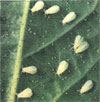whitefly: (78, 78, 93, 96), (59, 11, 76, 25), (14, 87, 33, 99), (28, 1, 43, 16), (42, 4, 60, 16), (55, 60, 68, 76), (72, 34, 84, 51), (21, 65, 38, 75)
